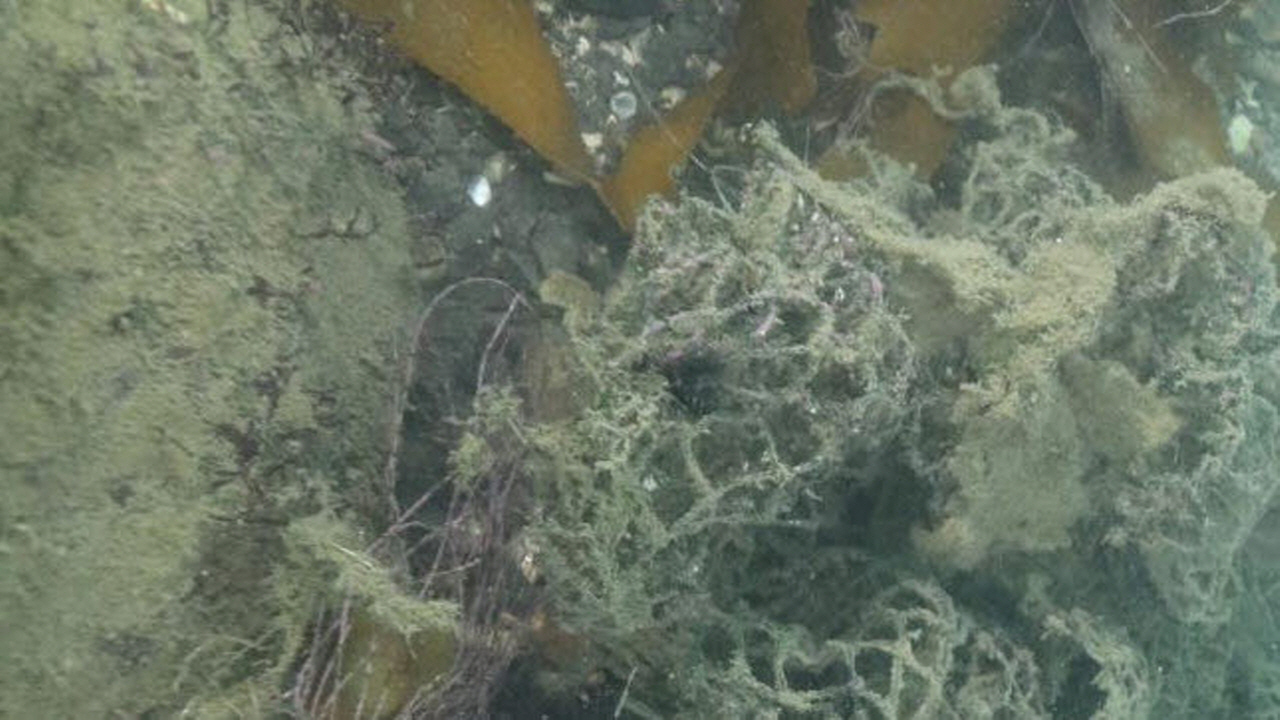fish net: (498, 120, 1280, 720)
